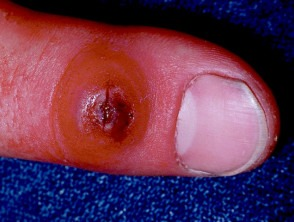Warts: (64, 67, 142, 148)
